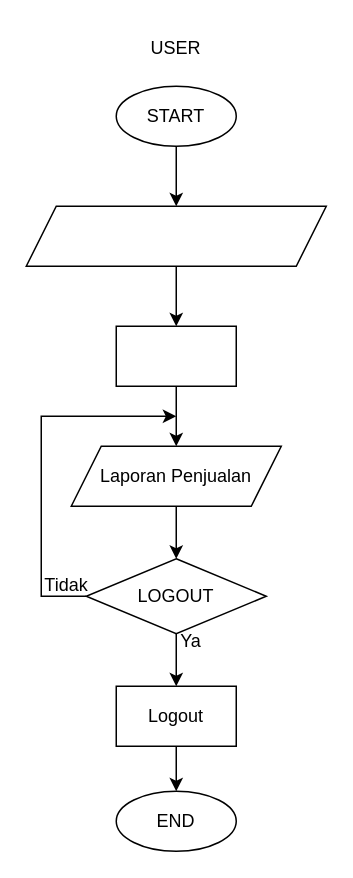
This 353x878 diagram has some shape labels left out. The shapes that lost their labels are listed below. From the top down, each one's centre as x and y in pixels, then its label:
At (175,235): "input username dan password".
At (175,355): "Login".
